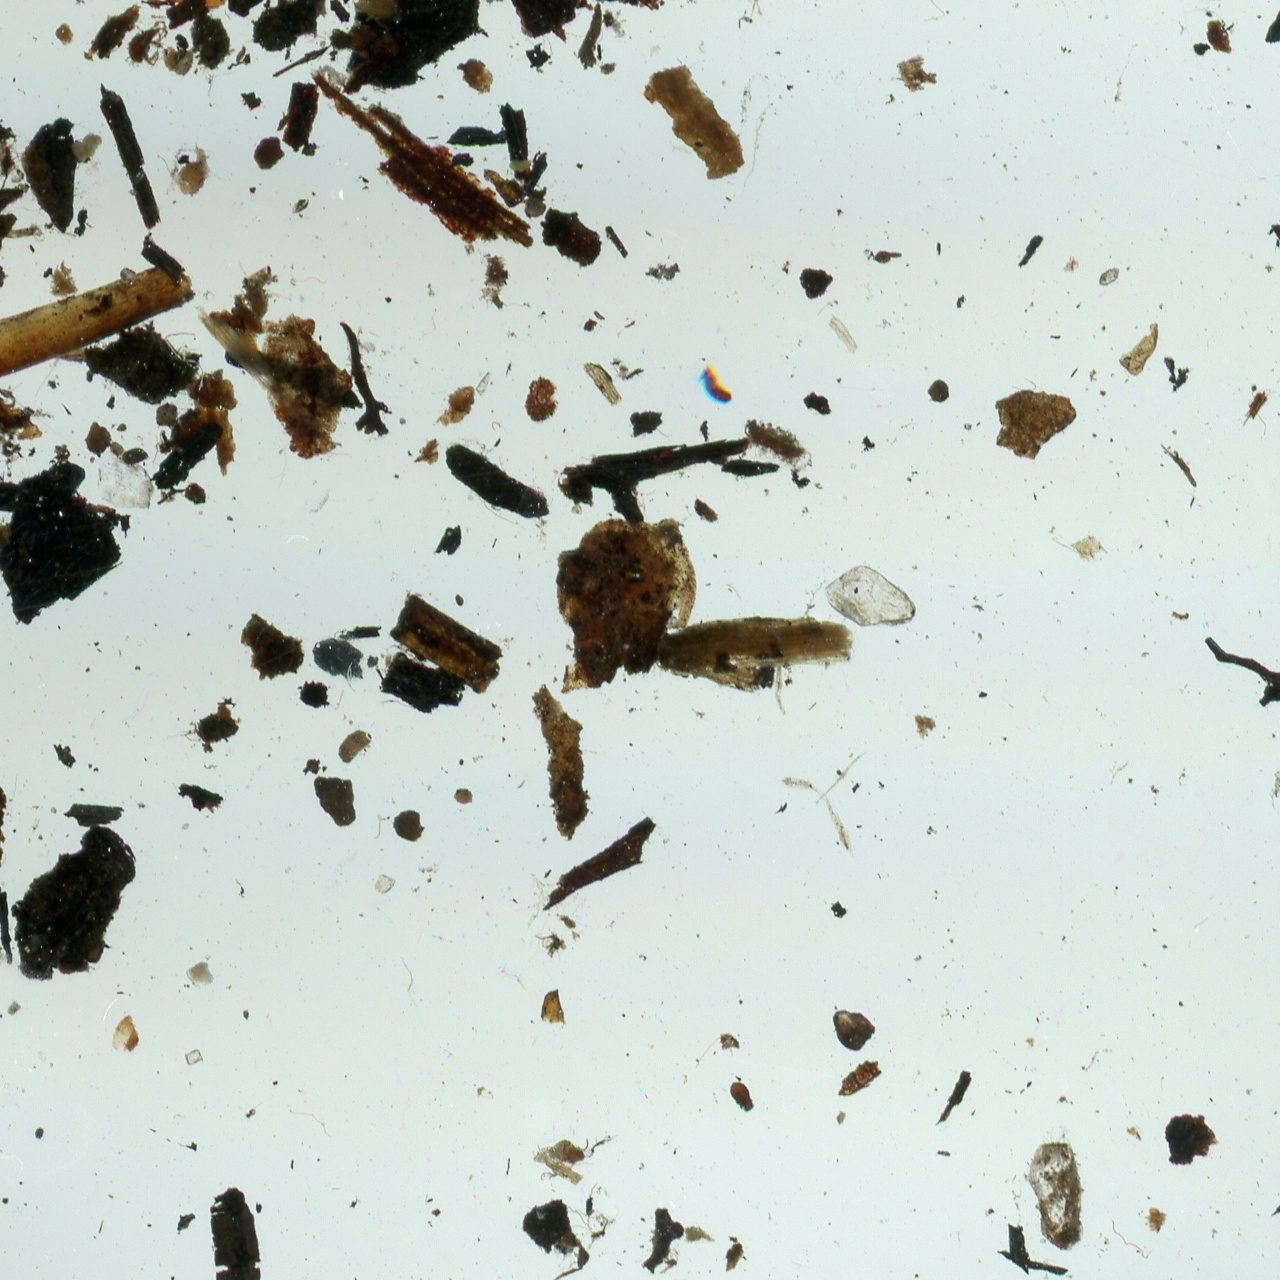arthropod: (123, 18, 170, 72)
